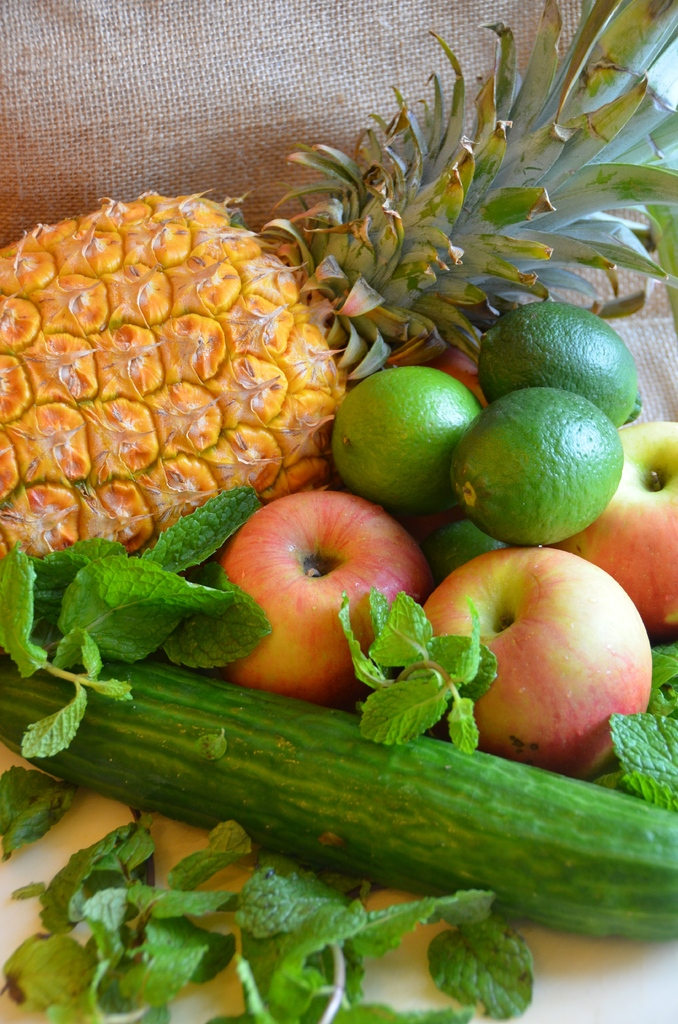Apple: (424, 540, 667, 775), (217, 492, 425, 709), (562, 417, 677, 646)
